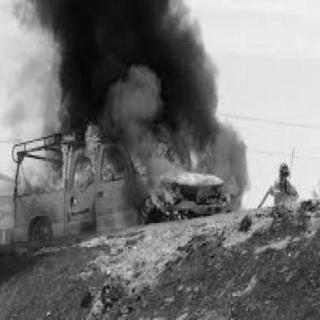Fire: (25, 98, 243, 234)
Smoke: (40, 1, 220, 121)
